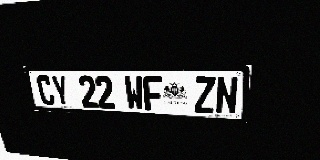2: (78, 75, 99, 108), (94, 76, 115, 109)
C: (35, 75, 56, 106)
F: (142, 76, 163, 111)
N: (215, 77, 239, 115)
W: (124, 76, 144, 110)
Y: (50, 75, 71, 107)
Z: (194, 76, 216, 114)
